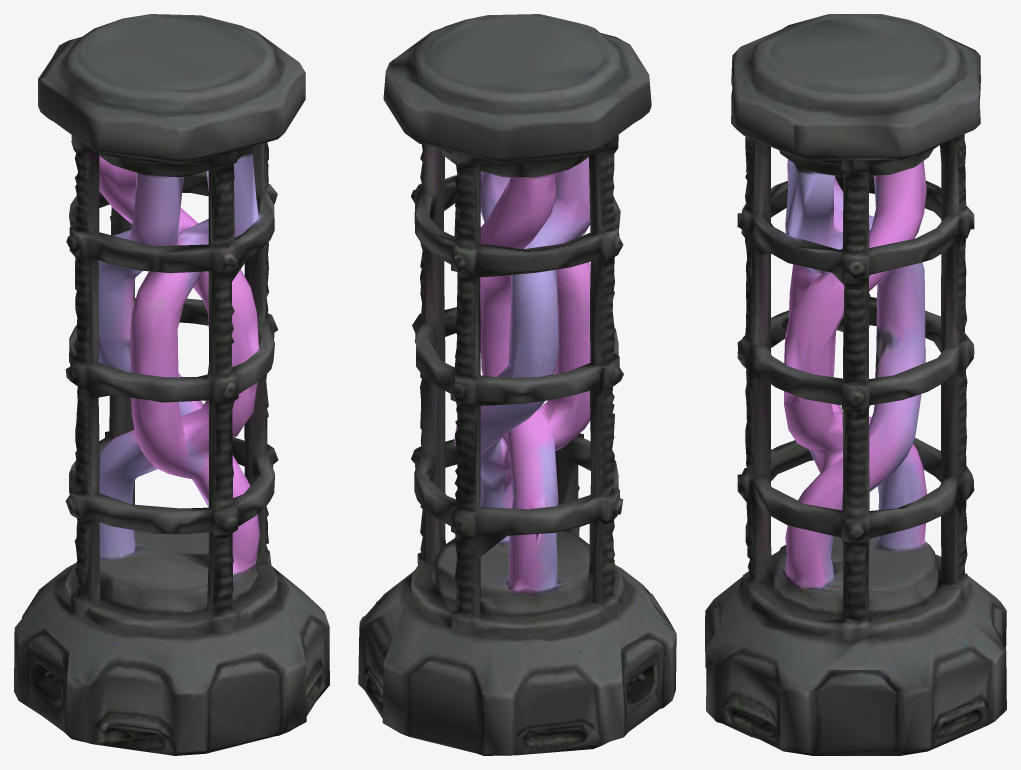
The model's file is au_furn_lamp_cyber.glb.
The picture shows the model from 3 angles, left to right: view 1: azimuth 30°, elevation 25°; view 2: azimuth 150°, elevation 25°; view 3: azimuth 270°, elevation 25°; orthographic projection.
Parts seen in each view (by area): view 1: tripo_node_b22a1249-1db8-49ca-8eb8-248a5d7e2b00; view 2: tripo_node_b22a1249-1db8-49ca-8eb8-248a5d7e2b00; view 3: tripo_node_b22a1249-1db8-49ca-8eb8-248a5d7e2b00.
Boxes of the visible parts, bbox=[...] form: tripo_node_b22a1249-1db8-49ca-8eb8-248a5d7e2b00: bbox=[14, 14, 329, 755]; tripo_node_b22a1249-1db8-49ca-8eb8-248a5d7e2b00: bbox=[358, 14, 676, 755]; tripo_node_b22a1249-1db8-49ca-8eb8-248a5d7e2b00: bbox=[705, 14, 1006, 755].
Bounding box in the file's own units: 0.4153 × 0.9798 × 0.4166.
Materials: 1 (1 with a texture image).
